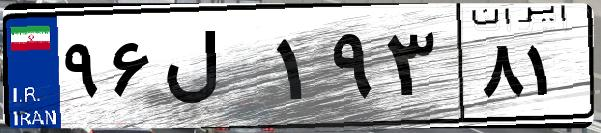1: (270, 28, 330, 110), (525, 38, 570, 115)
3: (385, 28, 445, 110)
6: (110, 28, 158, 98)
8: (475, 38, 525, 113)
9: (330, 28, 385, 110), (57, 26, 110, 100)
ل: (158, 20, 270, 120)
